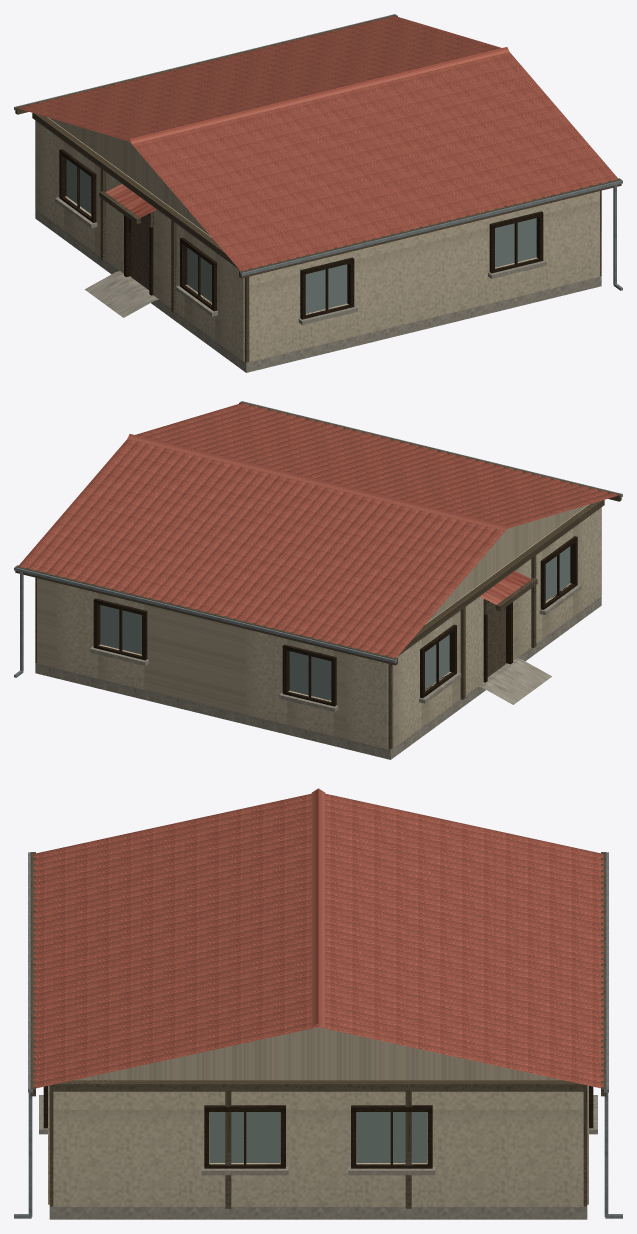
The picture shows the model from 3 angles, top to bottom: view 1: azimuth 30°, elevation 25°; view 2: azimuth 150°, elevation 25°; view 3: azimuth 270°, elevation 25°; orthographic projection. The views are drawn at different scales.
Parts seen in each view (by area): view 1: H06_TELHAS, H06_LATERAIS, H06_FACHADA, H06_FUNDACAO, H06_VIDROS_RECUADOS, H06_CAIXILHOS, H06_OITOES, H06_BEIRAIS, H06_CUMEEIRA, H06_VIGA_ESTRUTURAL, H06_CALHA, H06_RAMPA (+7 smaller); view 2: H06_TELHAS, H06_LATERAIS, H06_FACHADA, H06_FUNDACAO, H06_VIDROS_RECUADOS, H06_CAIXILHOS, H06_OITOES, H06_BEIRAIS, H06_CUMEEIRA, H06_VIGA_ESTRUTURAL, H06_CALHA, H06_RAMPA (+7 smaller); view 3: H06_TELHAS, H06_FUNDOS, H06_OITOES, H06_FUNDACAO, H06_VIDROS_RECUADOS, H06_VIGA_ESTRUTURAL, H06_CAIXILHOS, H06_CUMEEIRA, H06_BEIRAIS, H06_PEITORIS, H06_CALHA, H06_ESTEIOS (+2 smaller).
Part boxes in pixels (x1,y1,x2,y2): H06_TELHAS: (19,16,617,270); H06_LATERAIS: (248,191,599,362); H06_FACHADA: (35,117,244,361); H06_FUNDACAO: (35,208,601,372); H06_VIDROS_RECUADOS: (66,159,536,313); H06_CAIXILHOS: (59,149,543,319); H06_OITOES: (49,118,210,236); H06_BEIRAIS: (15,14,621,278); H06_CUMEEIRA: (128,47,509,143); H06_VIGA_ESTRUTURAL: (32,113,238,268); H06_CALHA: (14,14,622,276); H06_RAMPA: (85,272,154,317); H06_TELHAS: (19,403,617,657); H06_LATERAIS: (37,578,388,749); H06_FACHADA: (392,504,601,748); H06_FUNDACAO: (35,595,601,759); H06_VIDROS_RECUADOS: (100,546,570,700); H06_CAIXILHOS: (93,536,577,706); H06_OITOES: (426,505,587,623); H06_BEIRAIS: (15,401,621,665); H06_CUMEEIRA: (127,434,508,530); H06_VIGA_ESTRUTURAL: (398,500,604,655); H06_CALHA: (14,401,622,663); H06_RAMPA: (482,659,551,704); H06_TELHAS: (33,793,603,1088); H06_FUNDOS: (53,1091,583,1206); H06_OITOES: (74,1027,562,1080); H06_FUNDACAO: (49,1112,587,1219); H06_VIDROS_RECUADOS: (210,1112,426,1162); H06_VIGA_ESTRUTURAL: (53,1080,583,1091); H06_CAIXILHOS: (43,1086,593,1168); H06_CUMEEIRA: (311,788,325,1026); H06_BEIRAIS: (30,852,606,1096); H06_PEITORIS: (39,1095,597,1175); H06_CALHA: (28,852,608,1092); H06_ESTEIOS: (225,1091,411,1208).
Size of the model in its own units: 11.37 by 4.28 by 11.62.
Materials: 8 (7 with a texture image).
